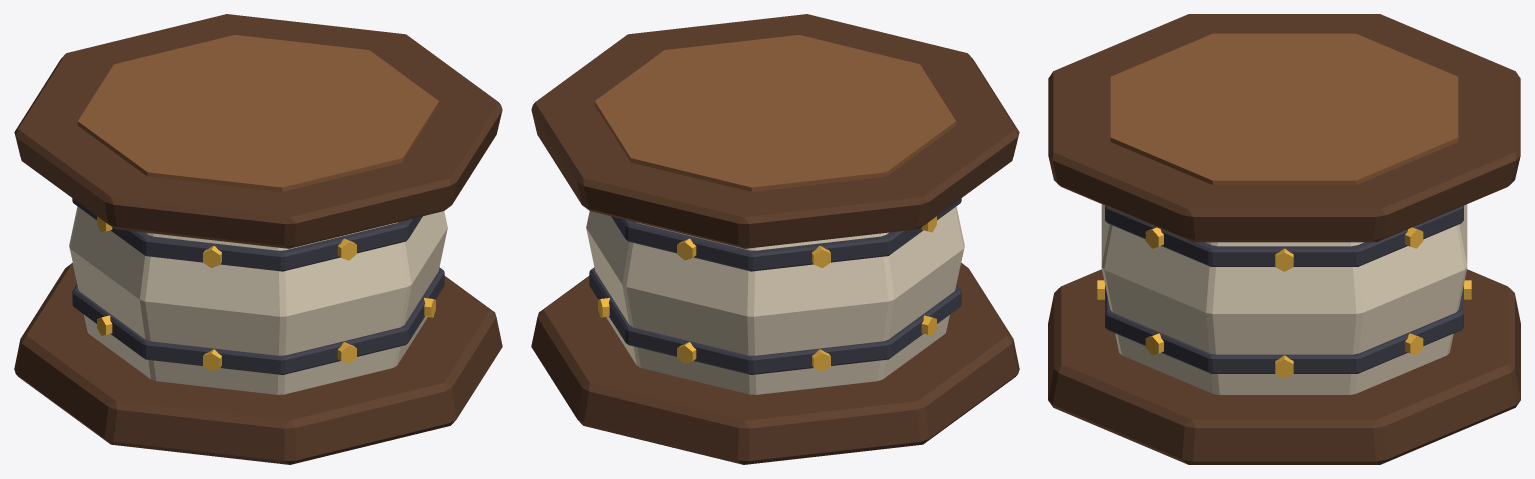
Rendered from OreStandV2.fbx.
3 renders of one model, left to right at view 1: azimuth 30°, elevation 25°; view 2: azimuth 150°, elevation 25°; view 3: azimuth 270°, elevation 25°, orthographic. The views are drawn at different scales.
Visible parts, largest first — view 1: Cap, Seat, Base, Drum, Hoop0, Hoop1; view 2: Cap, Seat, Base, Drum, Hoop0, Hoop1; view 3: Cap, Seat, Base, Drum, Hoop0, Hoop1.
Boxes of the visible parts, bbox=[...] form: Cap: bbox=[14, 14, 502, 248]; Seat: bbox=[77, 35, 439, 191]; Base: bbox=[14, 263, 502, 464]; Drum: bbox=[69, 206, 447, 394]; Hoop0: bbox=[72, 267, 444, 374]; Hoop1: bbox=[72, 198, 422, 271]; Cap: bbox=[531, 14, 1019, 248]; Seat: bbox=[594, 35, 956, 191]; Base: bbox=[531, 263, 1019, 464]; Drum: bbox=[586, 206, 964, 394]; Hoop0: bbox=[589, 267, 961, 374]; Hoop1: bbox=[611, 198, 961, 271]; Cap: bbox=[1048, 14, 1520, 242]; Seat: bbox=[1110, 33, 1458, 184]; Base: bbox=[1048, 269, 1520, 464]; Drum: bbox=[1101, 204, 1467, 394]; Hoop0: bbox=[1105, 285, 1463, 373]; Hoop1: bbox=[1105, 205, 1463, 266].
Bounding box in the file's own units: 3.77 × 2.29 × 3.77.
